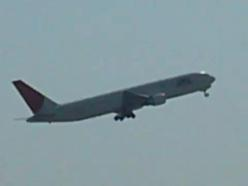aircraft: (11, 72, 216, 122)
